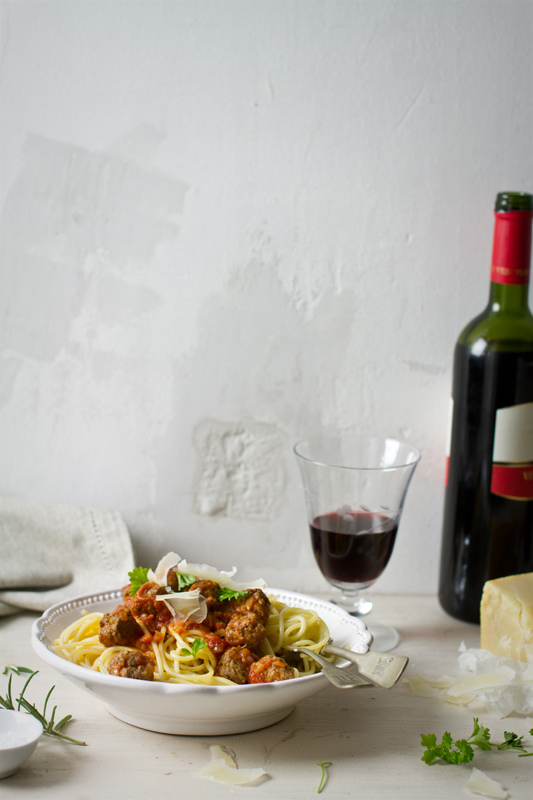meatballs: (191, 571, 274, 617), (224, 640, 291, 690), (97, 601, 142, 645), (109, 645, 146, 679), (229, 615, 263, 647)
plain spaghetti: (267, 594, 336, 668), (160, 624, 224, 692), (68, 608, 104, 673)
